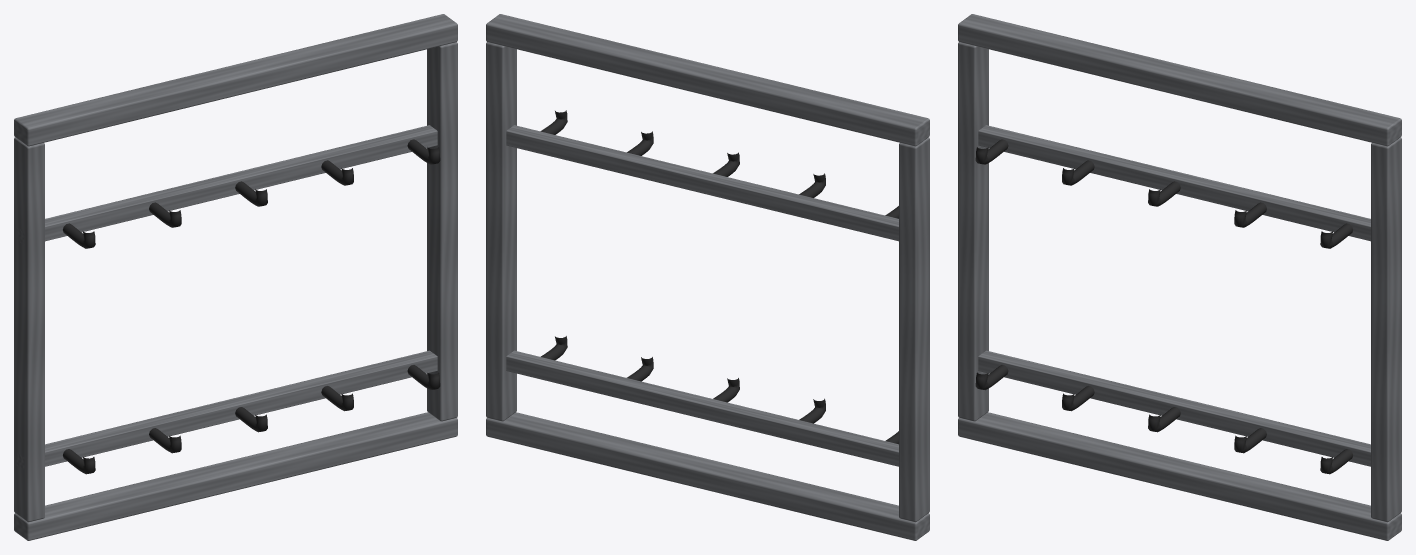
Rendered from fps-weapon-set-and-firing-range-wall-weapon-rack-319c25b3__19523.glb.
3 renders of one model, left to right at view 1: azimuth 30°, elevation 25°; view 2: azimuth 150°, elevation 25°; view 3: azimuth 330°, elevation 25°, orthographic.
Parts seen in each view (by area): view 1: wall-weapon-rack; view 2: wall-weapon-rack; view 3: wall-weapon-rack.
Part boxes in pixels (x1=…): wall-weapon-rack: x1=14, y1=14, x2=457, y2=540; wall-weapon-rack: x1=486, y1=14, x2=929, y2=540; wall-weapon-rack: x1=958, y1=14, x2=1401, y2=540.
Bounding box in the file's own units: 1.2 × 1.1 × 0.1736.
2 materials, 1 textured.
